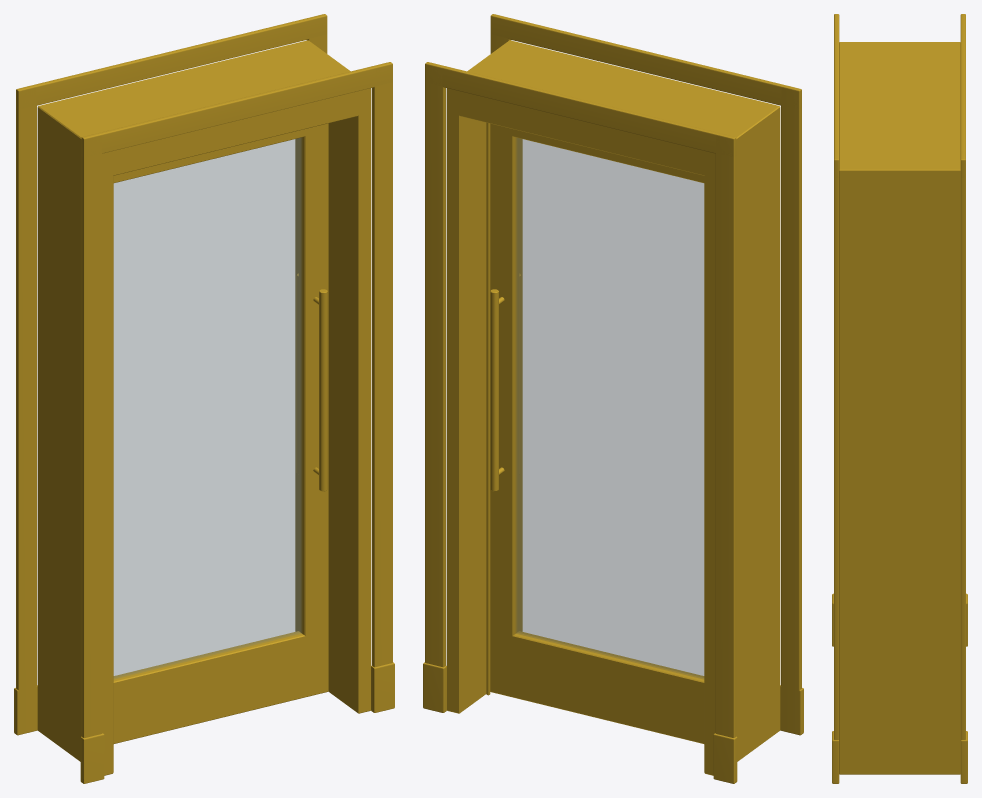
The model's file is prop_door_single_glass_t40.glb.
The picture shows the model from 3 angles, left to right: view 1: azimuth 30°, elevation 25°; view 2: azimuth 150°, elevation 25°; view 3: azimuth 270°, elevation 25°; orthographic projection. The views are drawn at different scales.
Visible parts, largest first — view 1: Frame, LeafMesh; view 2: Frame, LeafMesh; view 3: Frame.
Part boxes in pixels (left/top/right/bottom): Frame: left=14, top=14, right=394, bottom=783; LeafMesh: left=113, top=123, right=328, bottom=743; Frame: left=423, top=14, right=803, bottom=783; LeafMesh: left=490, top=123, right=704, bottom=743; Frame: left=832, top=14, right=967, bottom=783.
Size of what is drawn, in the model's own units: 1.15 by 2.27 by 0.448.
